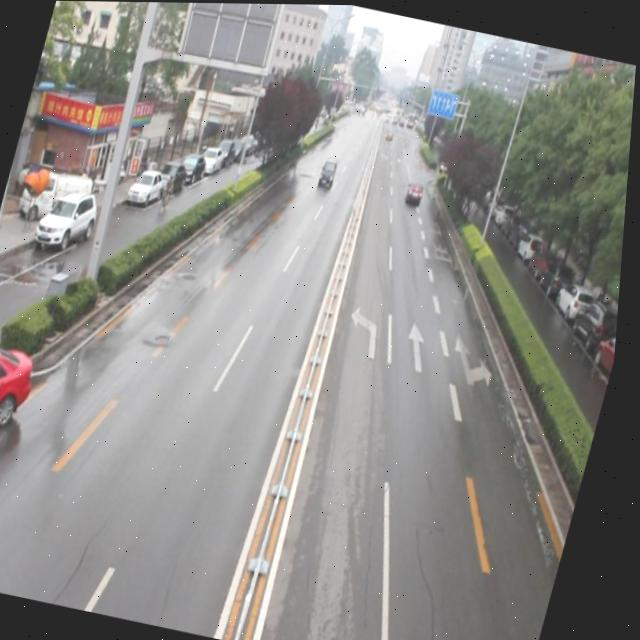car: (0, 335, 46, 468), (404, 176, 428, 206)
truck: (319, 153, 343, 191)
